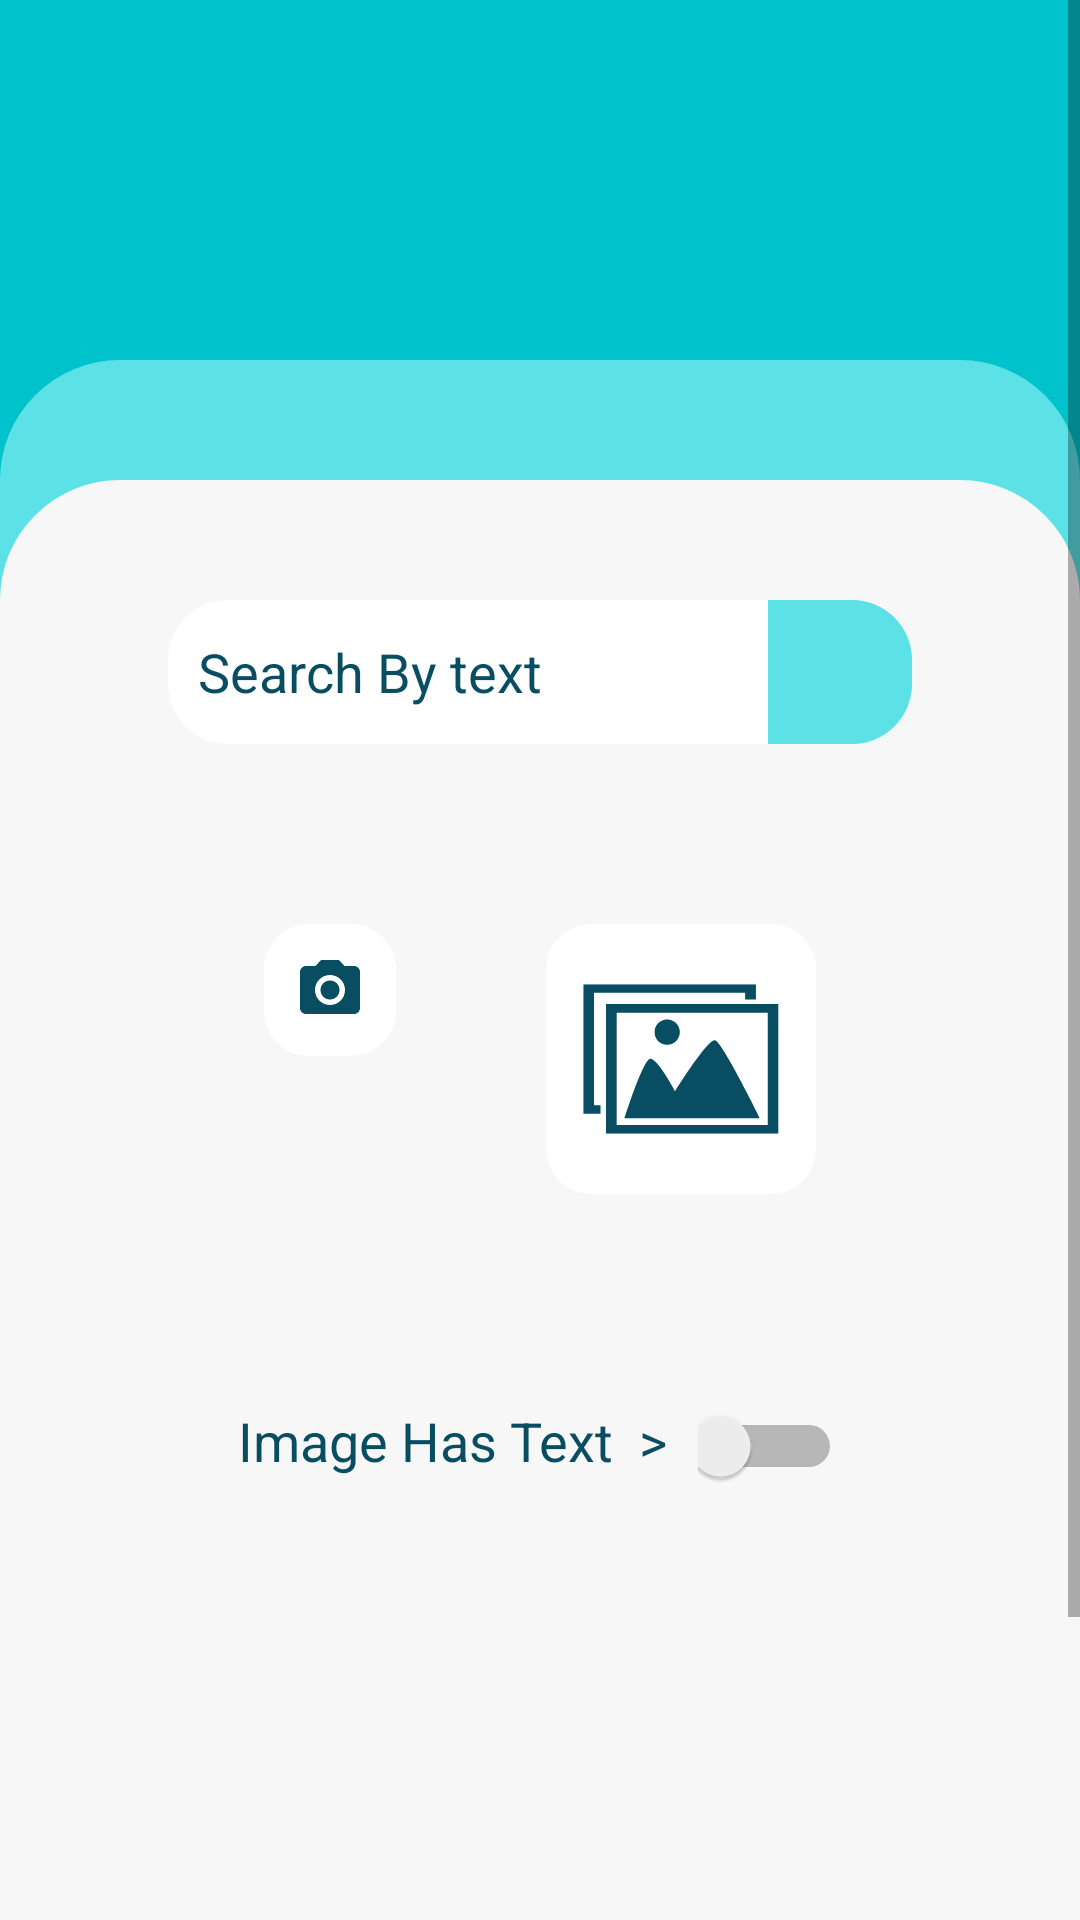

Screen size 1080px x 1920px. Icon name, then its box in pixels as [x1, y1, x2, y2]:
camera: [300, 960, 360, 1014]
